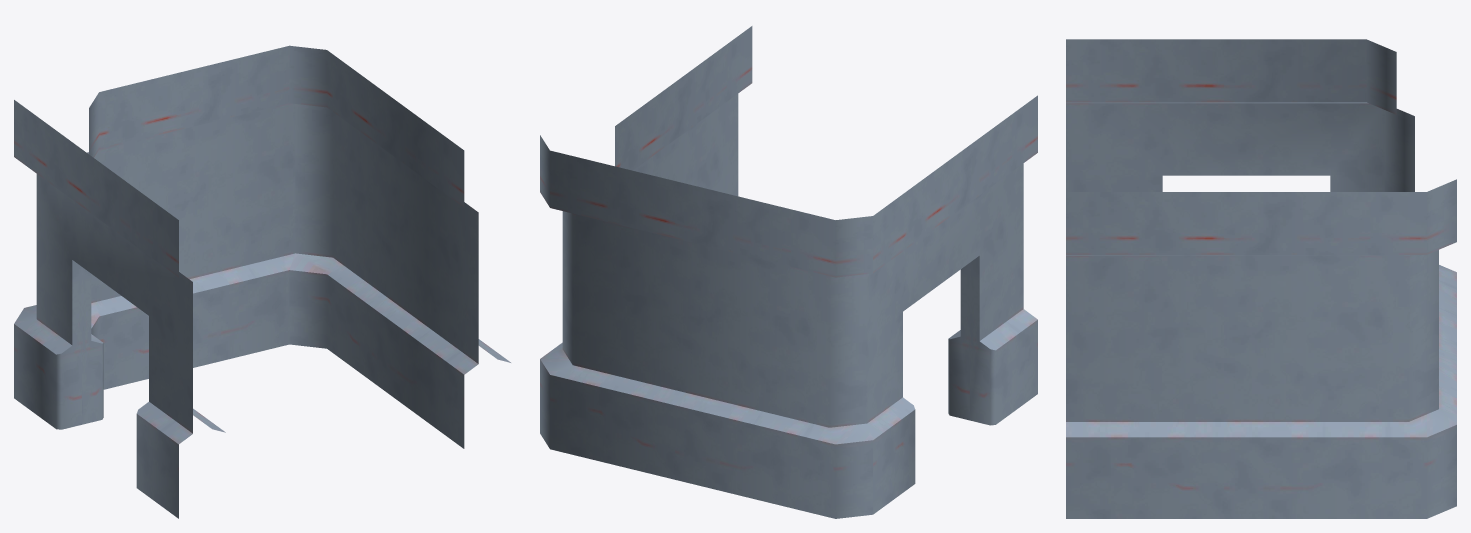
Rendered from Wall_DoorEntrance_End_A_1.glb.
3 renders of one model, left to right at view 1: azimuth 30°, elevation 25°; view 2: azimuth 150°, elevation 25°; view 3: azimuth 270°, elevation 25°, orthographic. The views are drawn at different scales.
Parts seen in each view (by area): view 1: Wall_DoorEntrance_End_A_1; view 2: Wall_DoorEntrance_End_A_1; view 3: Wall_DoorEntrance_End_A_1.
Part boxes in pixels (left/top/right/bottom): Wall_DoorEntrance_End_A_1: left=14, top=45, right=510, bottom=518; Wall_DoorEntrance_End_A_1: left=540, top=26, right=1037, bottom=518; Wall_DoorEntrance_End_A_1: left=1066, top=39, right=1456, bottom=518.
Bounding box in the file's own units: 7 × 6 × 6.5.
1 material, 1 textured.
